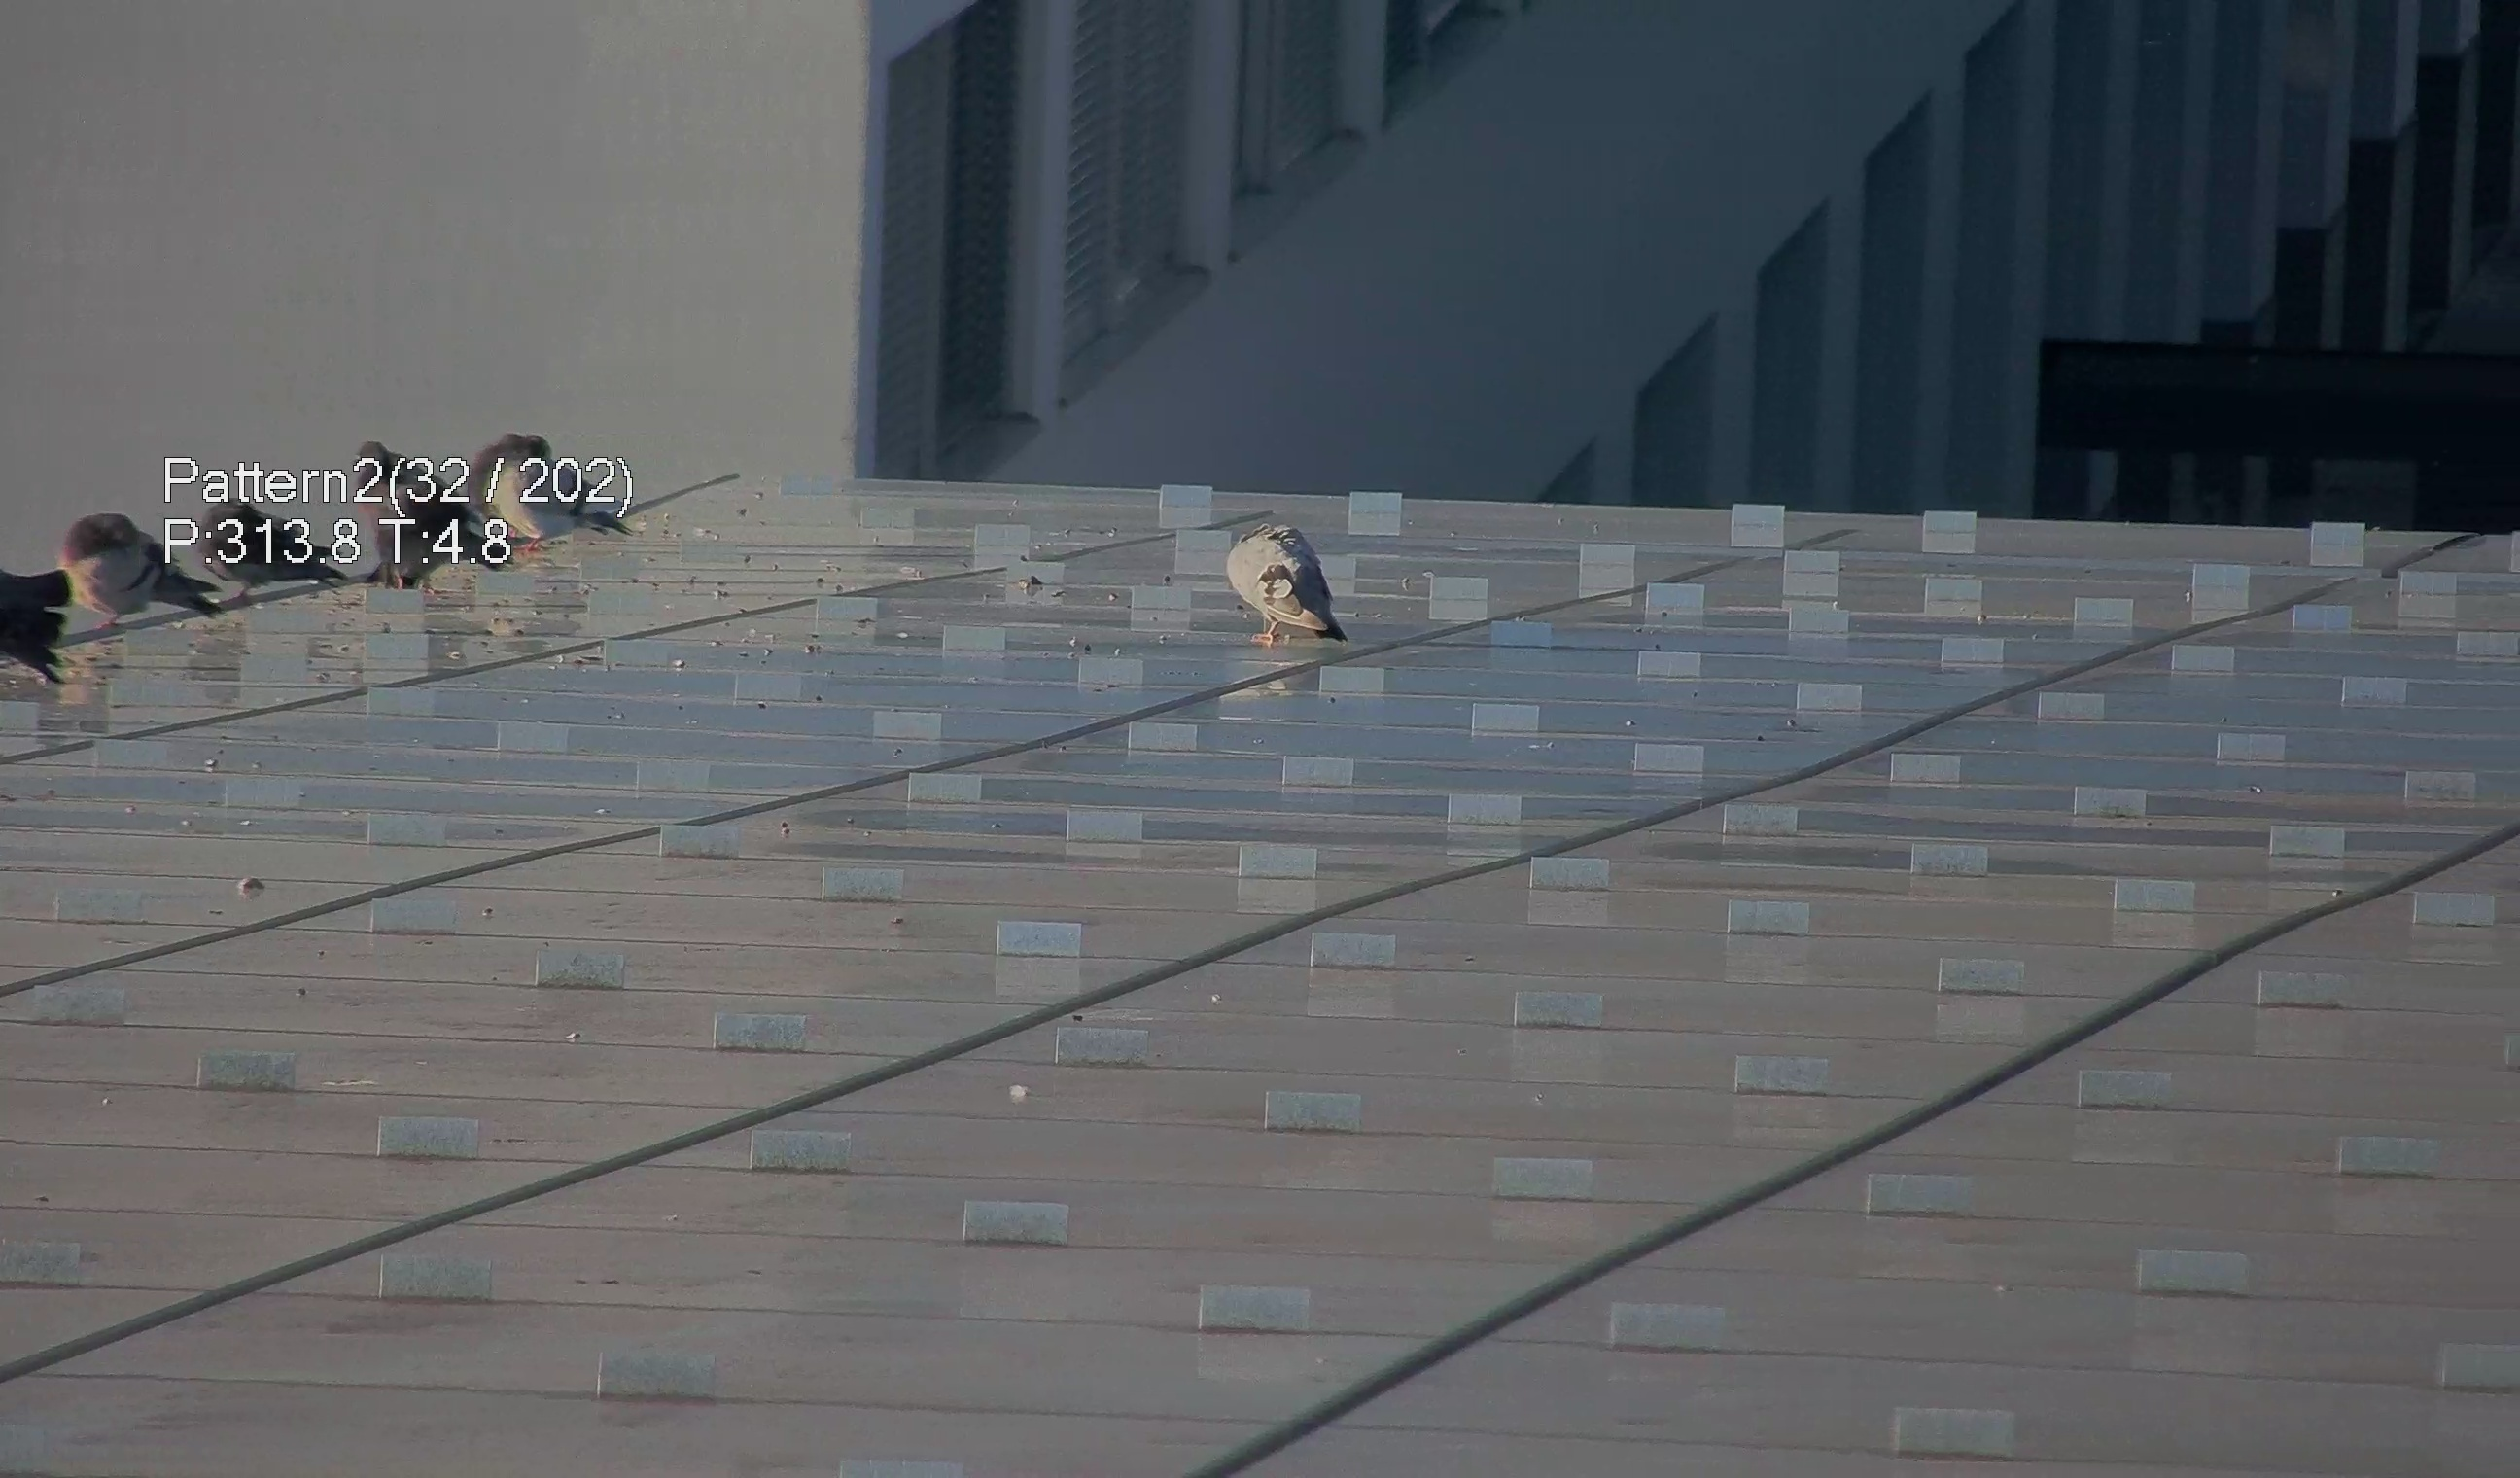Pigeon: (40, 498, 251, 653), (1217, 509, 1356, 653), (353, 452, 484, 602), (468, 433, 640, 545), (195, 493, 336, 604)
